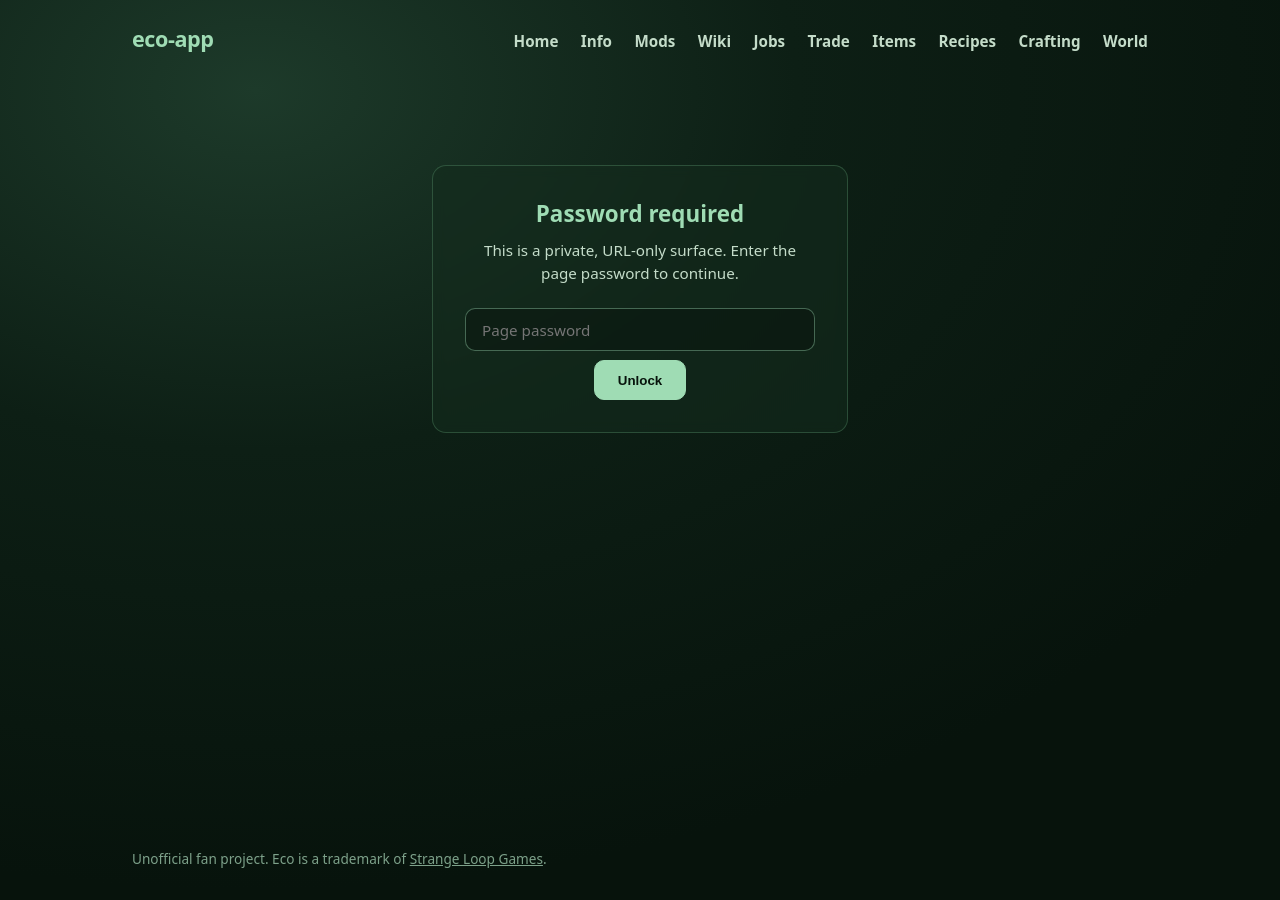
Test: PagePassword › keeps the gate up and reports a mismatch on the wrong password
Check: the element with test id "page-gate" is shown, box x1=432 y1=165 x2=848 y2=433
Type "nope" into the password field with test id "gate-input" at (640, 330), box x1=465 y1=308 x2=815 y2=351
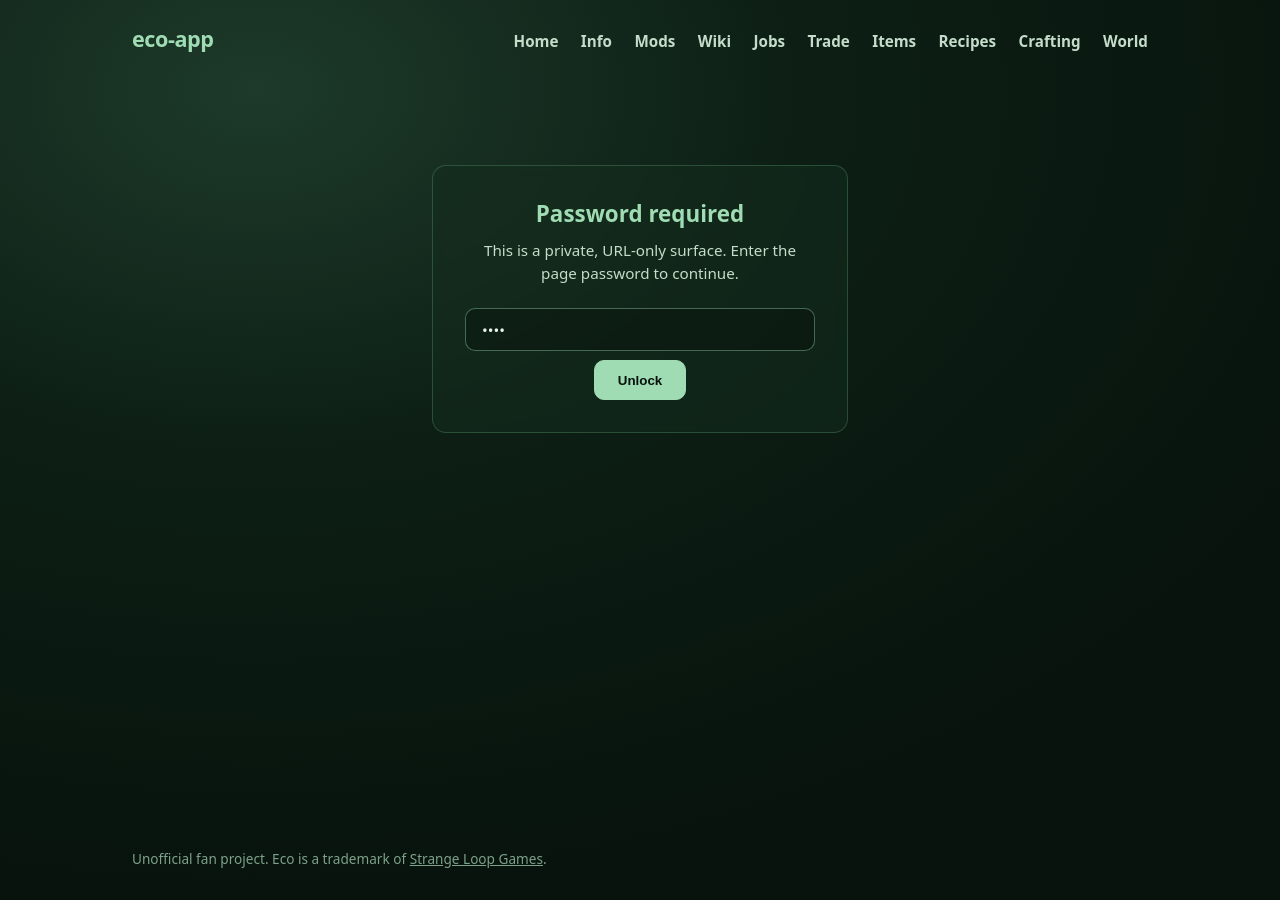
Click the button with test id "gate-submit" at (640, 380), box x1=594 y1=360 x2=686 y2=400
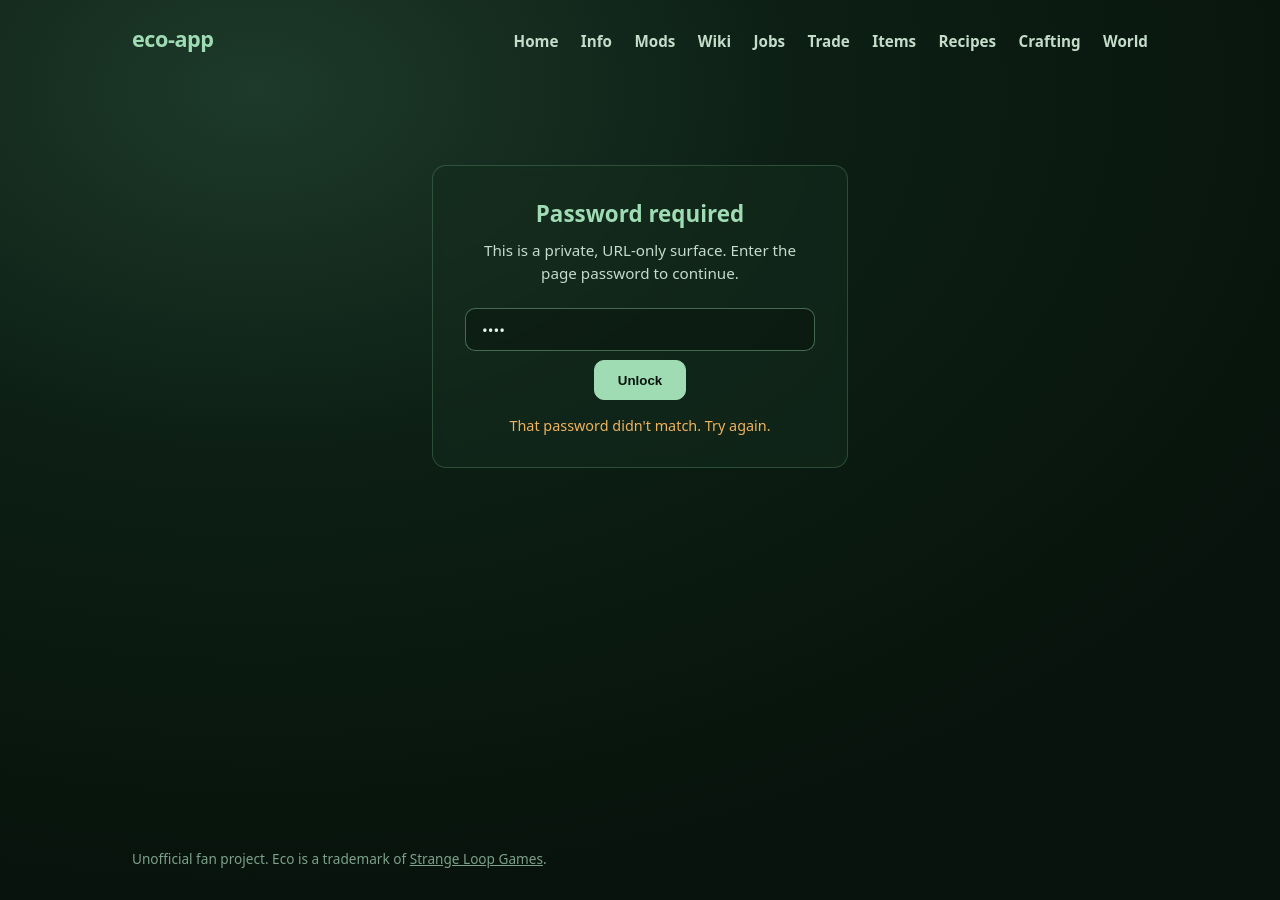
Check: the message "That password didn't match. Try again." is shown, box x1=509 y1=416 x2=770 y2=435
